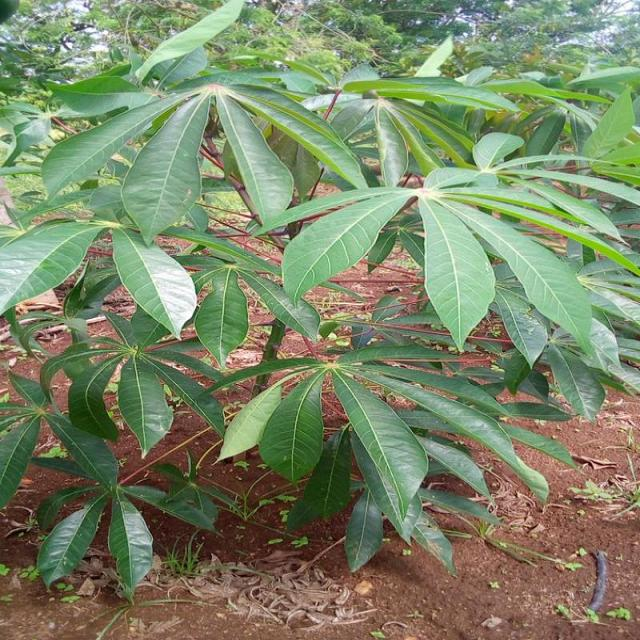cassava leaf: (0, 2, 638, 596), (120, 90, 210, 245), (110, 225, 197, 340)
